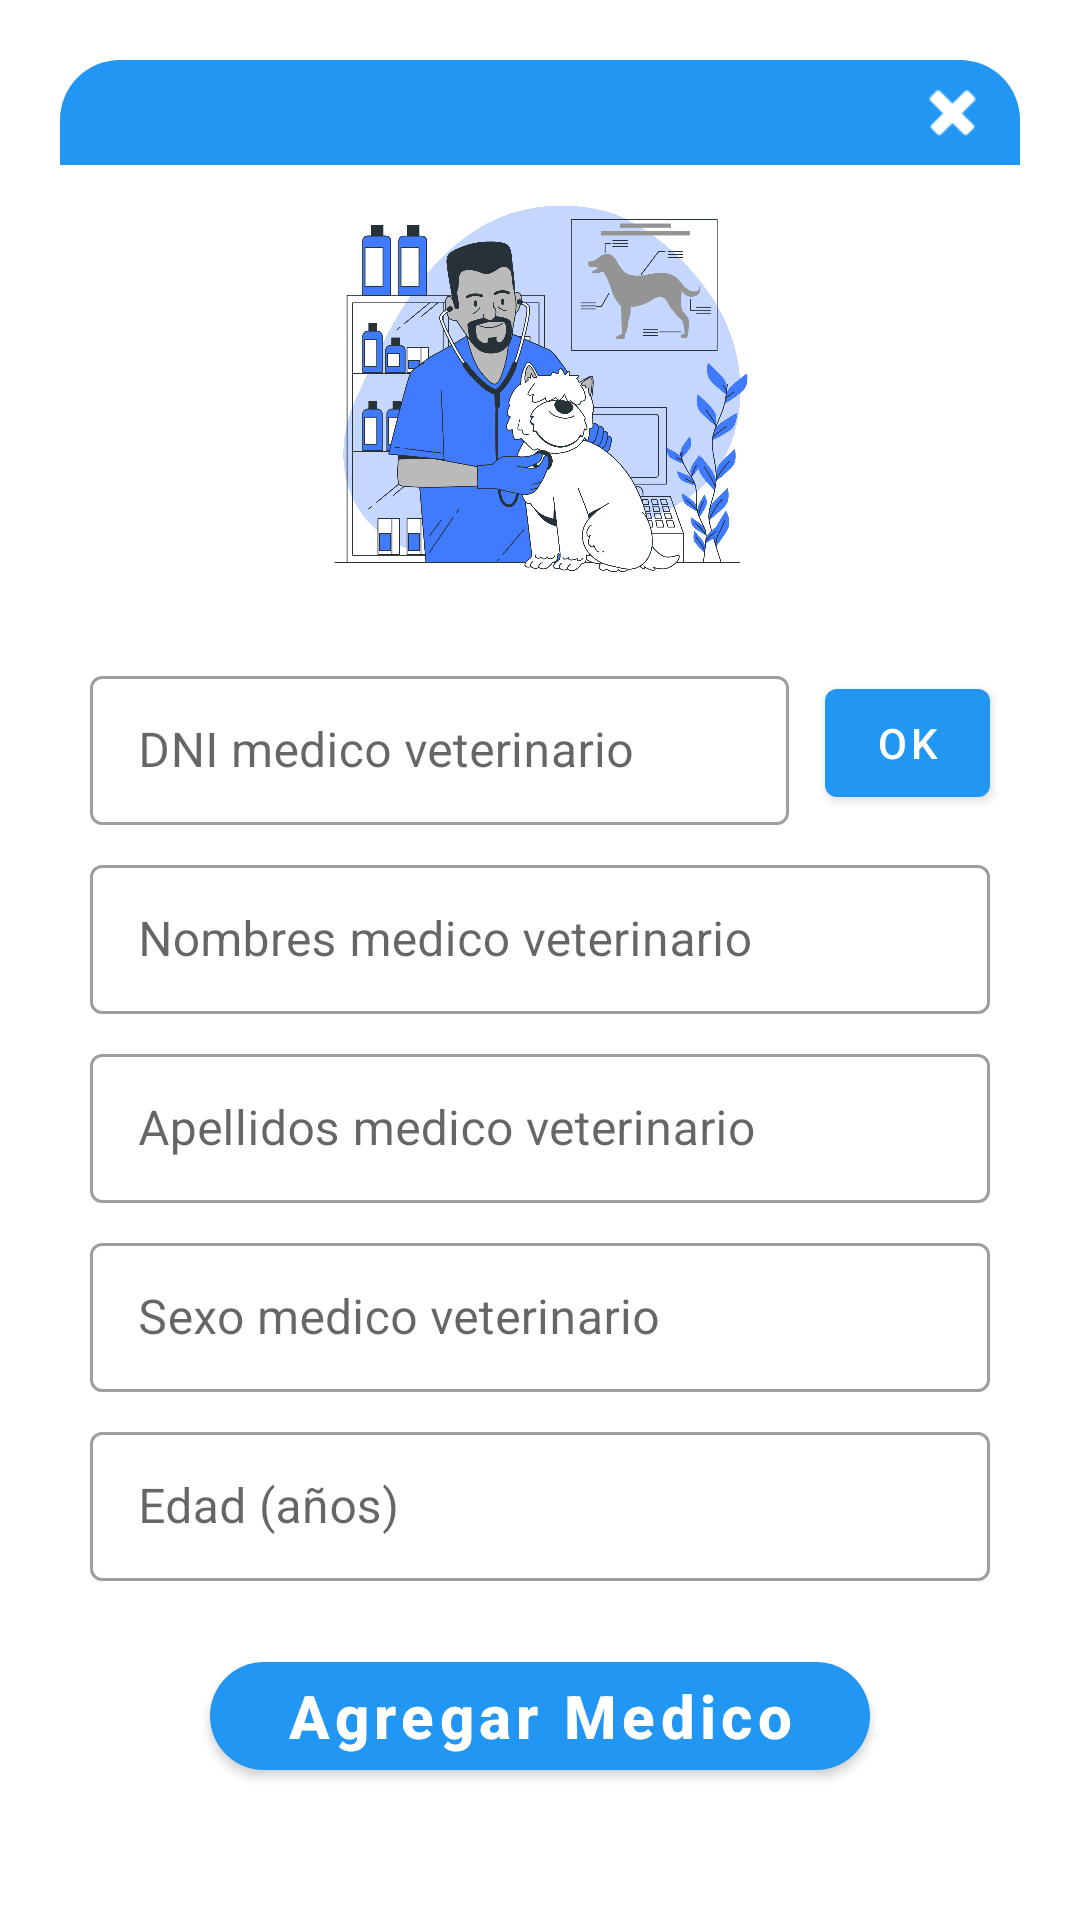

Named icons in this screenshot (1080 x 1920) and their centers, (x=x, y=y):
delete: (x=952, y=113)
